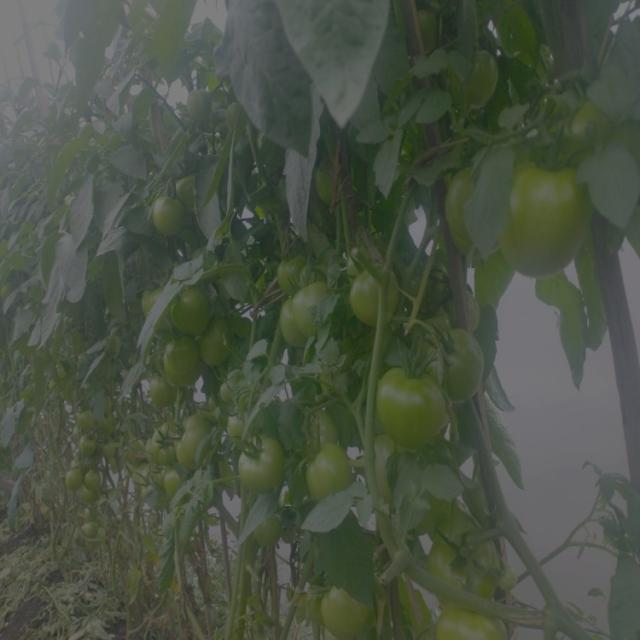tomato: (505, 163, 588, 278), (425, 506, 508, 601), (369, 362, 451, 452), (422, 325, 486, 401), (445, 45, 504, 111), (302, 442, 360, 504), (317, 581, 374, 640), (348, 266, 402, 327), (565, 100, 616, 162), (447, 169, 483, 250), (238, 437, 289, 493), (434, 606, 516, 640), (174, 412, 216, 473), (430, 278, 481, 322), (169, 285, 214, 333), (162, 336, 201, 386), (291, 287, 331, 335), (154, 185, 185, 237), (314, 155, 346, 205), (193, 327, 231, 369), (415, 6, 442, 57), (304, 409, 344, 443), (251, 511, 288, 547), (274, 303, 302, 349), (186, 87, 219, 123), (149, 418, 174, 465), (274, 251, 307, 286), (137, 285, 165, 325), (150, 378, 179, 409), (226, 411, 260, 435), (84, 463, 113, 491), (162, 471, 186, 499), (60, 465, 84, 493), (76, 517, 103, 541), (70, 406, 92, 434), (130, 433, 147, 468), (99, 409, 119, 437), (179, 178, 199, 202), (78, 436, 95, 457)
